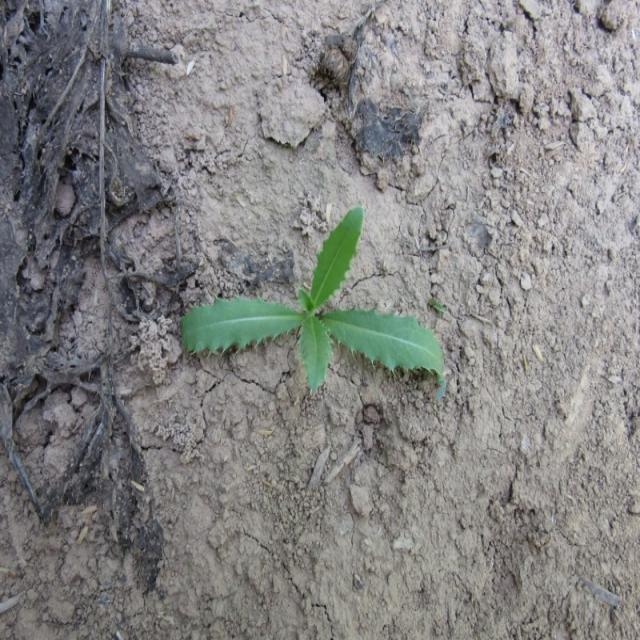cs: (175, 199, 449, 398)
